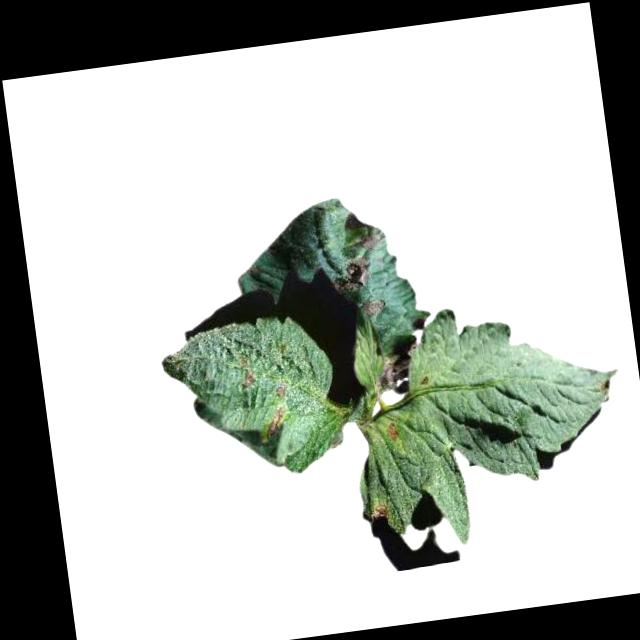Early_blight: (374, 345, 415, 394), (330, 255, 374, 293), (258, 405, 286, 438), (359, 292, 388, 318), (352, 228, 380, 252), (370, 501, 389, 522), (384, 419, 401, 440), (240, 368, 257, 386), (273, 382, 289, 398)
